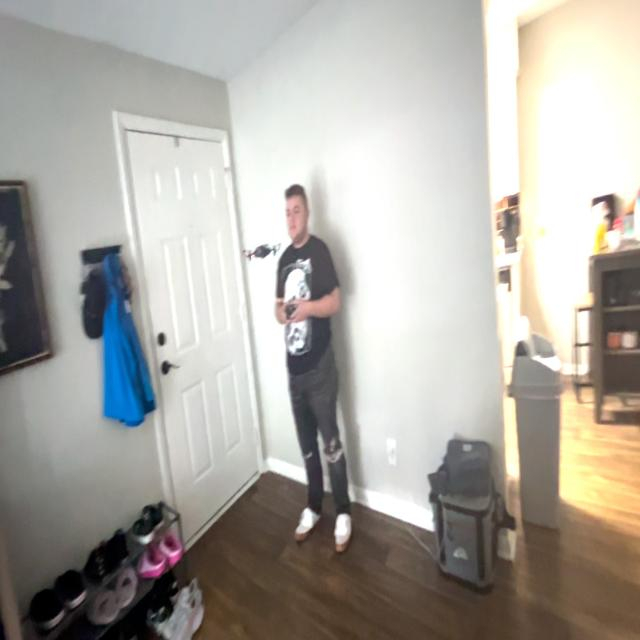drone: (237, 231, 296, 281)
